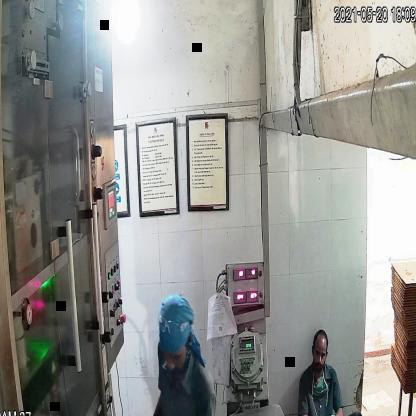no_goggles: (155, 338, 189, 368), (309, 343, 330, 363)
